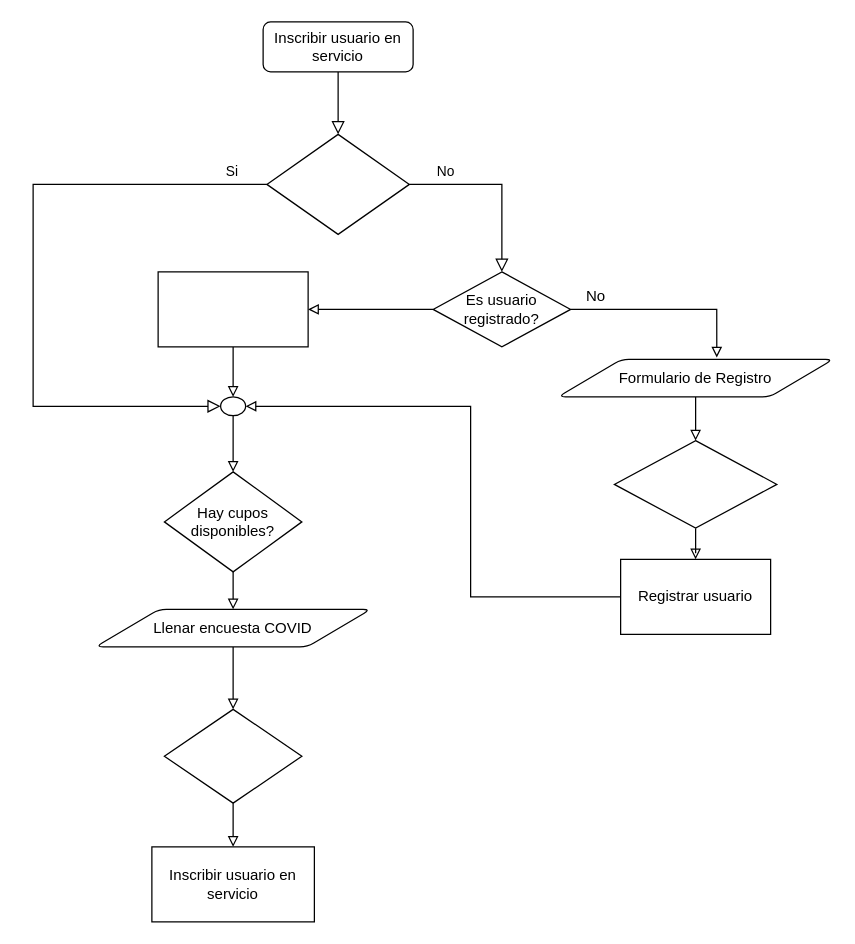
The diagram is 855 pixels wide and 944 high, and some of its shapes have lost their labels. Here are the shapes that lost their labels. From the top down, the centre of each, then its label:
At (x=337, y=183): "Es registrador?".
At (x=232, y=309): "Log In hacia la encuesta".
At (x=695, y=483): "Acepta términos y condiciones?".
At (x=232, y=755): "Es apto para entrar?".
